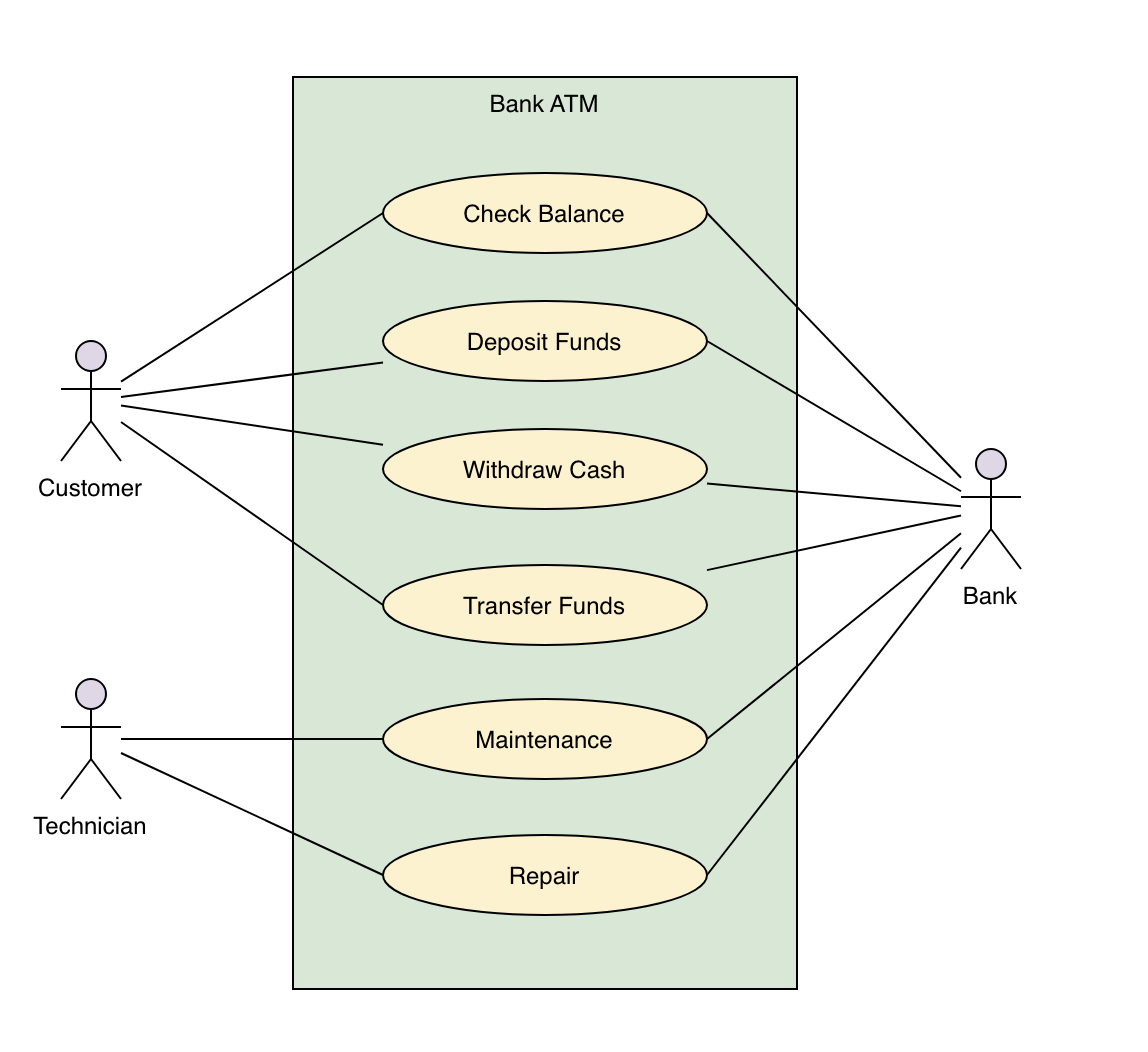actor: (56, 676, 127, 802), (58, 338, 127, 467), (965, 447, 1022, 571)
association: (711, 543, 963, 874), (708, 211, 964, 482), (708, 530, 959, 740), (121, 421, 383, 604), (120, 211, 383, 382), (709, 339, 962, 493), (119, 746, 383, 873), (708, 510, 962, 572), (119, 400, 387, 445), (122, 359, 384, 397), (710, 477, 969, 510), (121, 727, 383, 750)
text: (459, 194, 642, 235), (452, 452, 638, 490), (460, 716, 626, 755), (458, 586, 635, 622), (455, 326, 635, 358), (475, 84, 609, 123), (25, 810, 160, 846), (32, 473, 147, 506), (497, 858, 592, 895), (954, 580, 1028, 617)
use_case: (380, 831, 709, 920), (381, 169, 708, 257), (380, 298, 710, 384), (381, 696, 710, 782), (381, 426, 708, 512), (383, 562, 708, 648)
